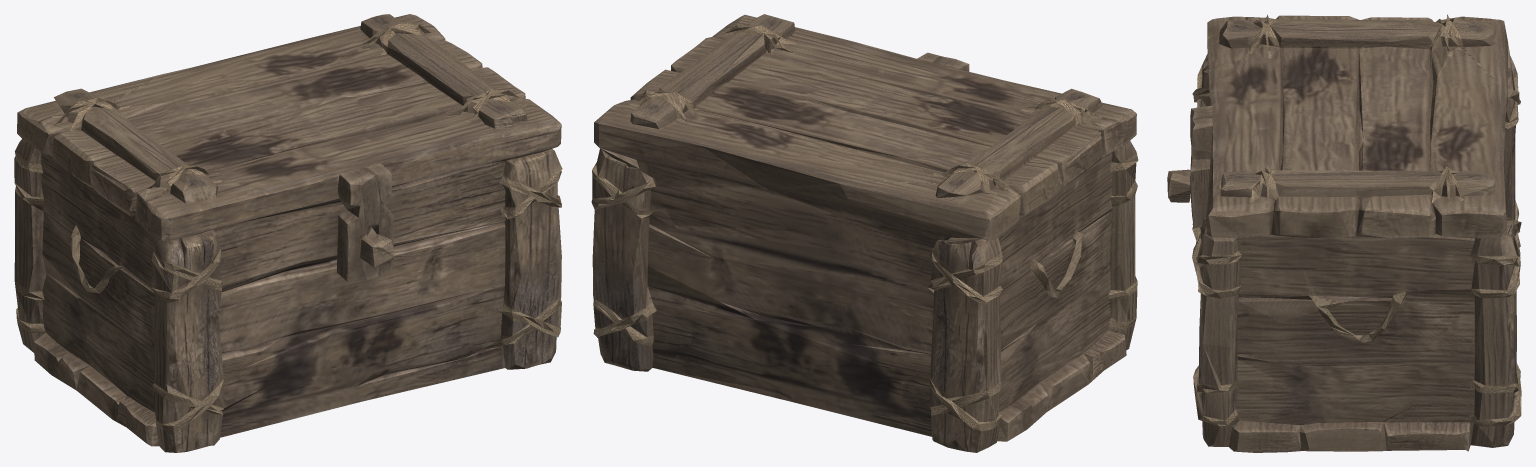
Rendered from storage_chest.fbx.
The picture shows the model from 3 angles, left to right: view 1: azimuth 30°, elevation 25°; view 2: azimuth 150°, elevation 25°; view 3: azimuth 270°, elevation 25°; orthographic projection.
Visible parts, largest first — view 1: output_unwrapped; view 2: output_unwrapped; view 3: output_unwrapped.
Boxes of the visible parts, x1=… form: output_unwrapped: x1=14, y1=14, x2=562, y2=452; output_unwrapped: x1=591, y1=14, x2=1138, y2=452; output_unwrapped: x1=1167, y1=14, x2=1521, y2=452.
Bounding box in the file's own units: 190 × 116 × 143.
Materials: 1 (1 with a texture image).
